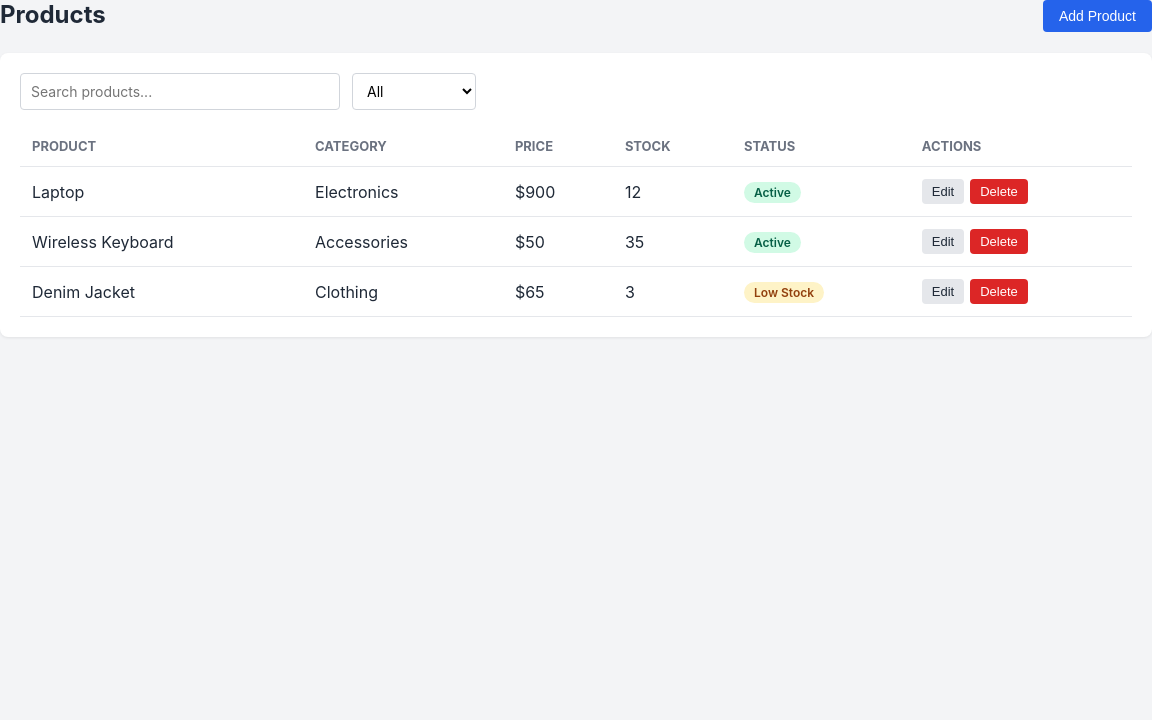
Scenario: adds a product
Expected: the text "Laptop" is shown, [20,166,303,216]
Click the button "Add Product" at point(1097, 16), box [1043,0,1151,32]
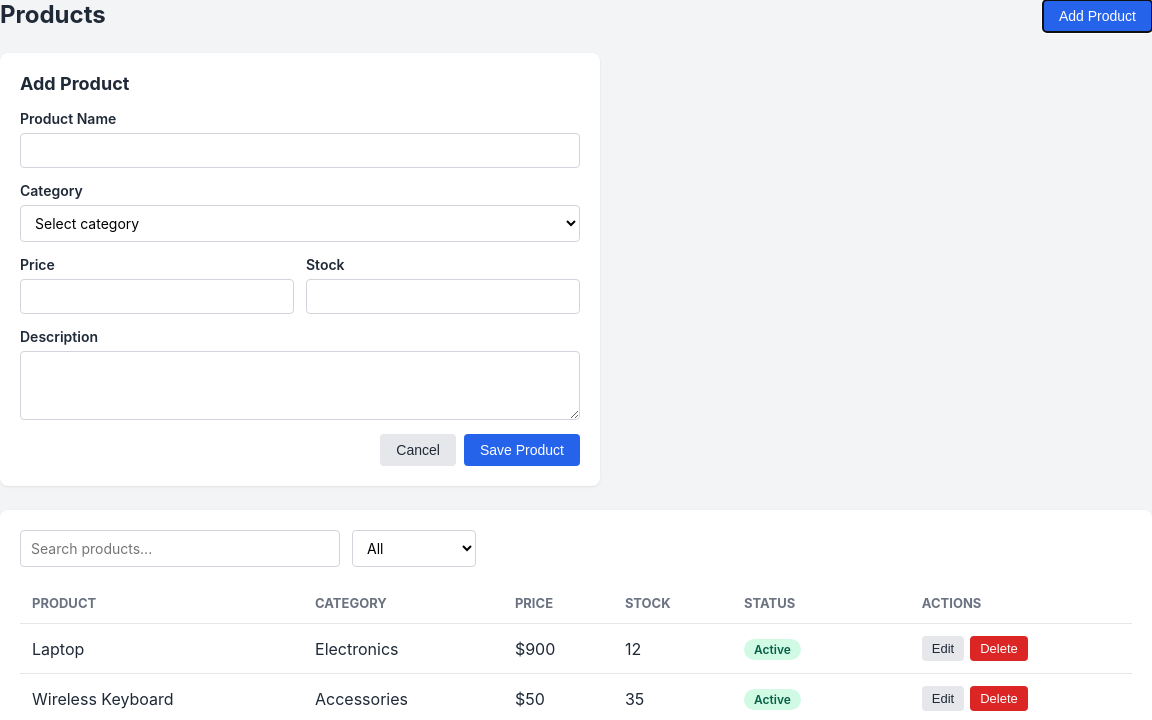
Type "Webcam" into the field labelled "Product Name" at point(300, 150), box [20,133,580,168]
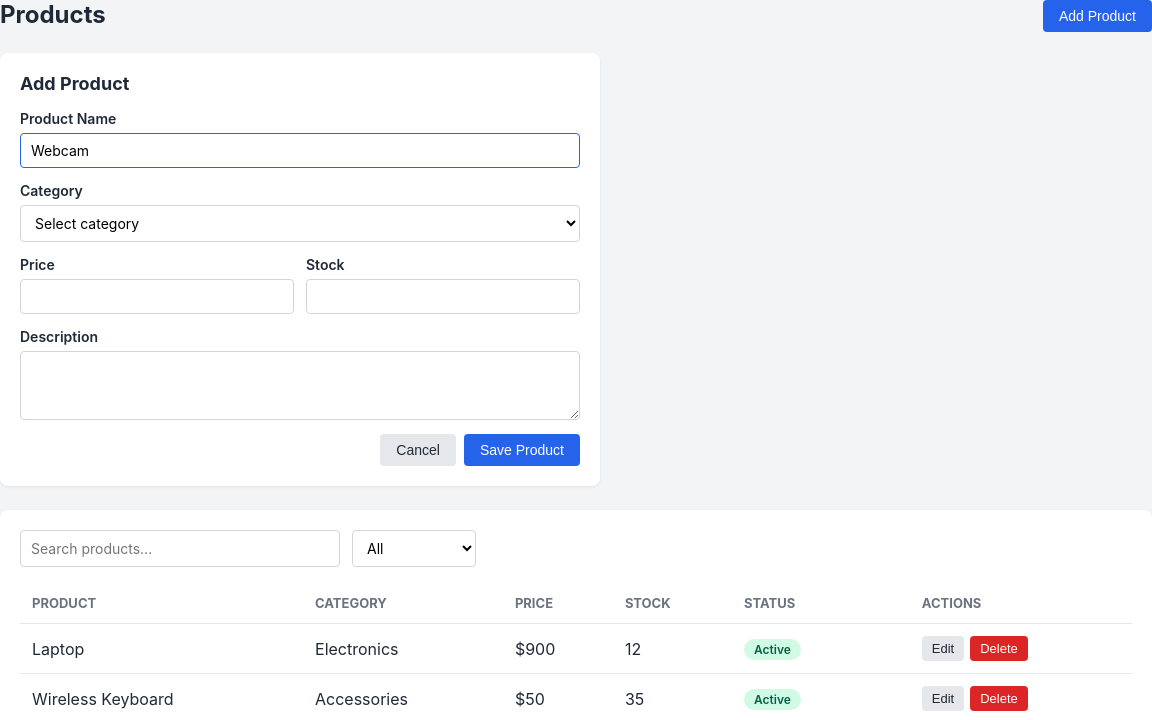
Select "Electronics" in the dropdown labelled "Category" at point(300, 224), box [20,205,580,242]
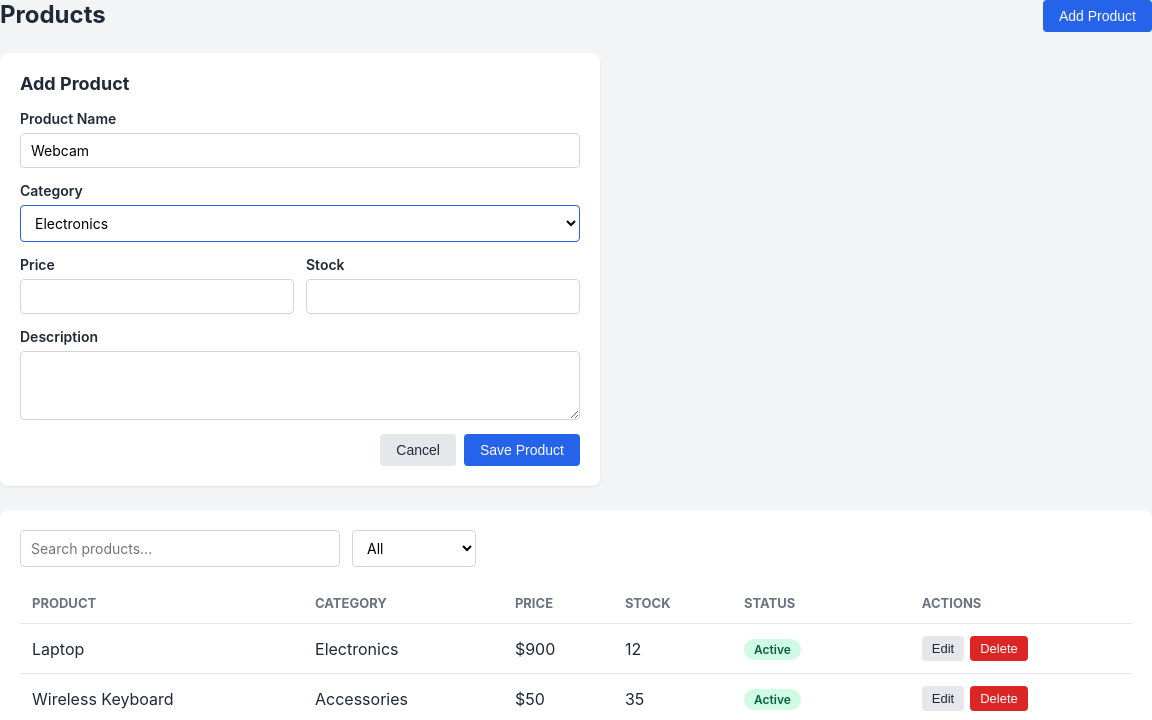
Type "45" into the number field labelled "Price" at point(157, 296), box [20,279,294,314]
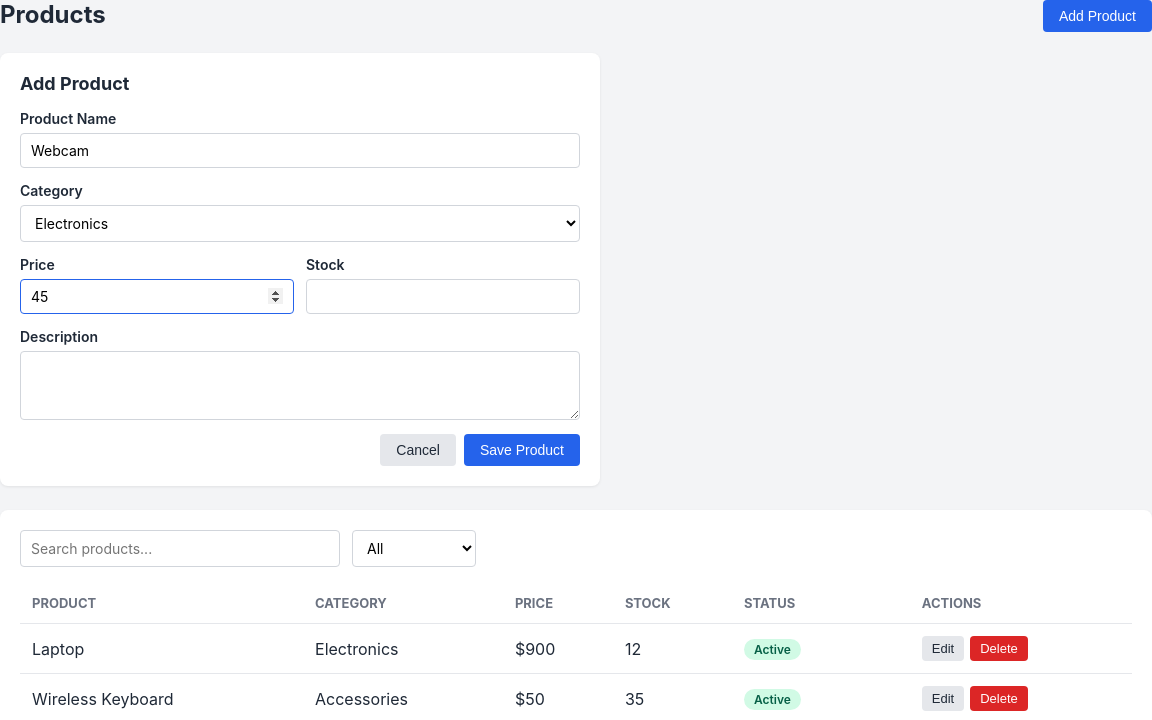
Type "10" into the number field labelled "Stock" at point(443, 296), box [306,279,580,314]
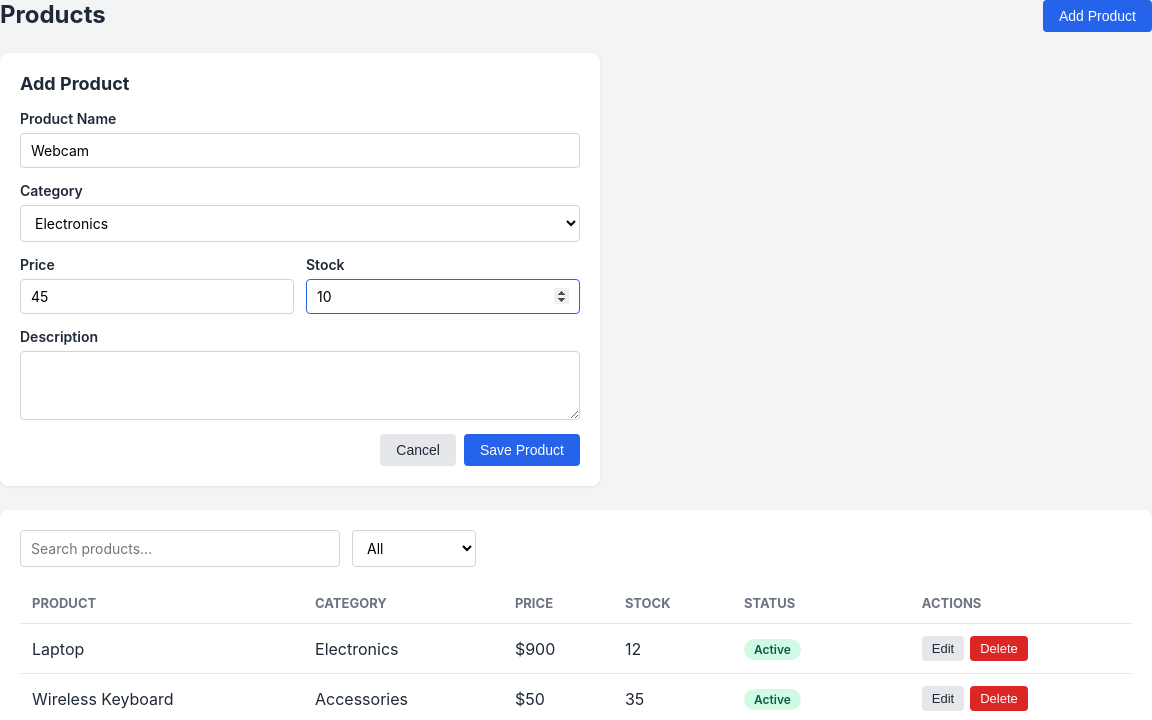
Click the button "Save Product" at point(522, 450), box [464,434,580,466]
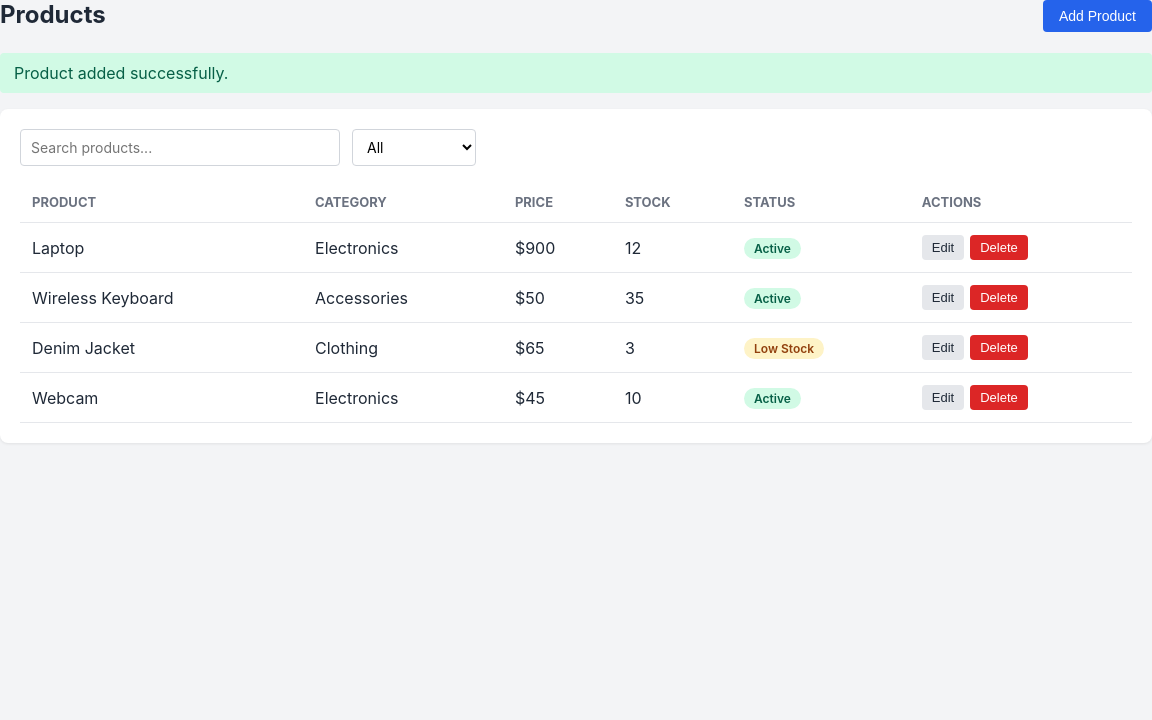
Expected: the text "Product added successfully." is shown, [0,53,1151,93]
Expected: the text "Webcam" is shown, [20,372,303,422]
